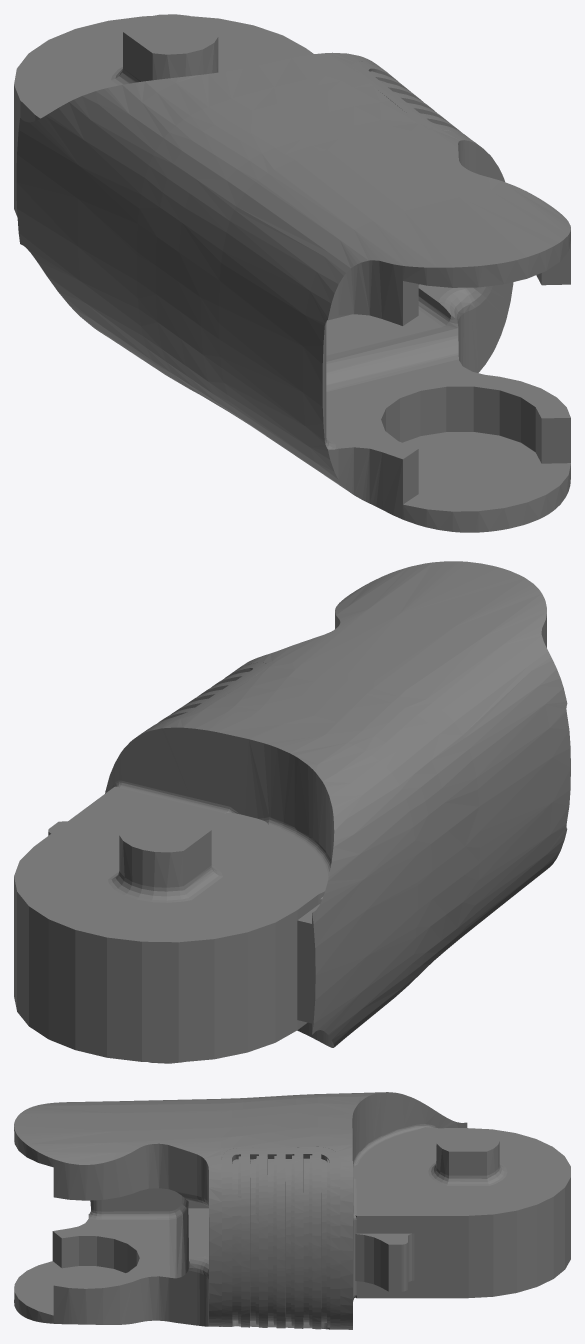
The model's file is lh_index_proximal_vis.obj.
The picture shows the model from 3 angles, top to bottom: view 1: azimuth 30°, elevation 25°; view 2: azimuth 150°, elevation 25°; view 3: azimuth 270°, elevation 25°; orthographic projection. The views are drawn at different scales.
Visible parts, largest first — view 1: lh_index_proximal; view 2: lh_index_proximal; view 3: lh_index_proximal.
Boxes of the visible parts, x1,y1,x2,y2 form: lh_index_proximal: (14, 14, 570, 532); lh_index_proximal: (14, 561, 570, 1063); lh_index_proximal: (14, 1092, 570, 1329).
Bounding box in the file's own units: 0.0191 × 0.016 × 0.0429.
Materials: 1 (1 with a texture image).
